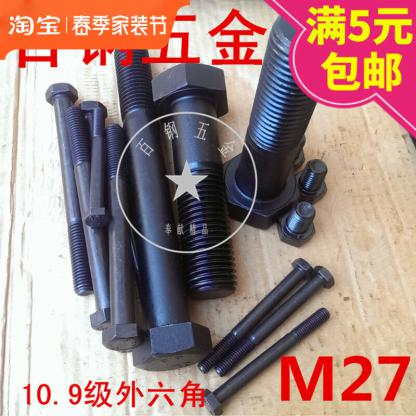FOD: (112, 49, 211, 373), (149, 57, 239, 300), (202, 305, 332, 415), (100, 119, 144, 353), (46, 78, 92, 298), (273, 201, 317, 248), (293, 156, 330, 200)
